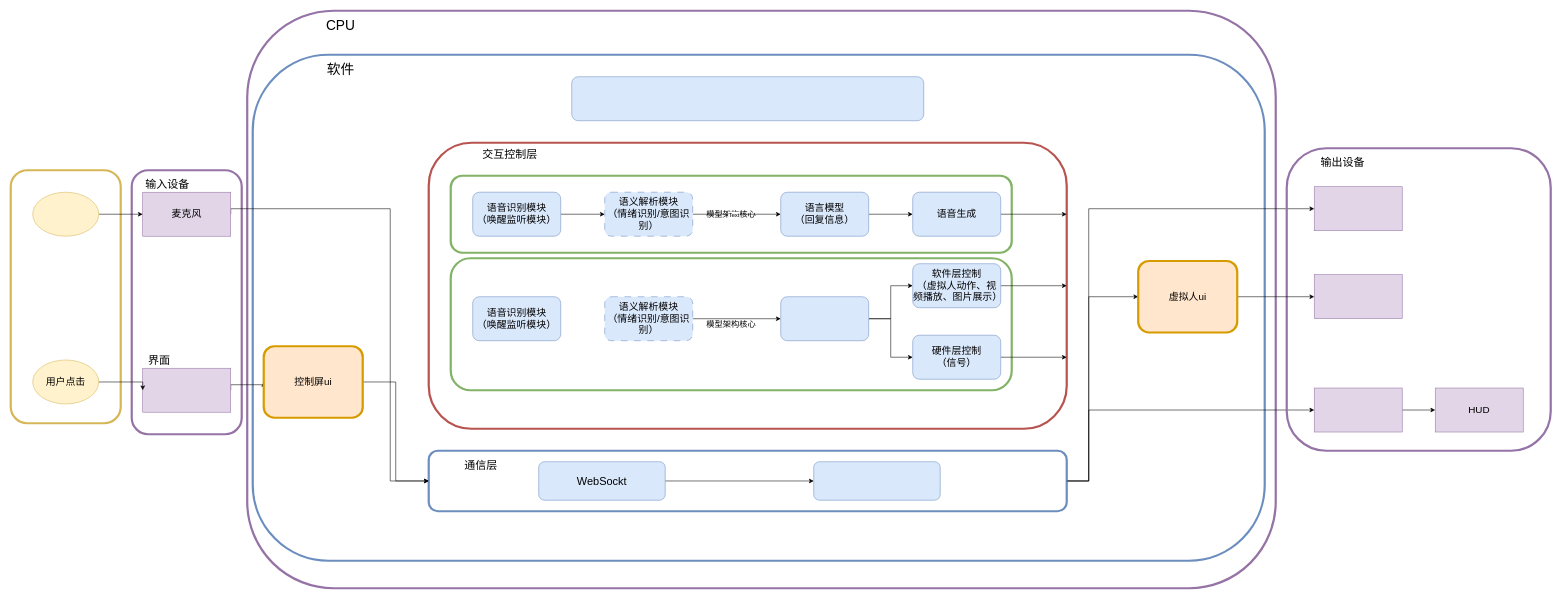
Some shapes in this 1561 by 598 pixel diagram are drawn without their labels. The shapes that lost their labels are listed below. From the top down, each one's centre as x and y in pixels, then its label:
(747,98): 数据层
(65,214): 用户说话
(1358,208): 扬声器
(1358,296): 虚拟人屏
(824,318): 指令控制模块 （控制管理）
(186,390): 控制屏
(1358,409): 亮度控制盒
(876,480): Flask-Server
